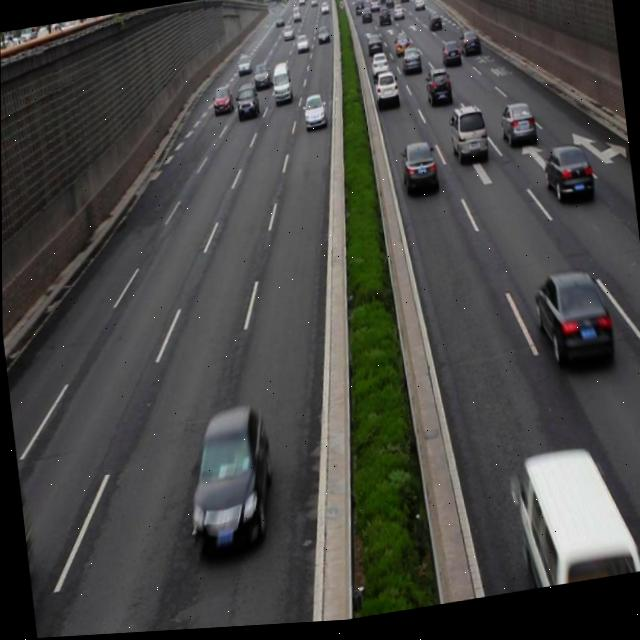car: (179, 404, 278, 561), (531, 272, 613, 376), (541, 146, 593, 212), (447, 107, 487, 171), (398, 143, 438, 201), (497, 104, 536, 156), (423, 68, 452, 112), (373, 72, 400, 114), (301, 94, 327, 134)
truck: (512, 446, 640, 596)
